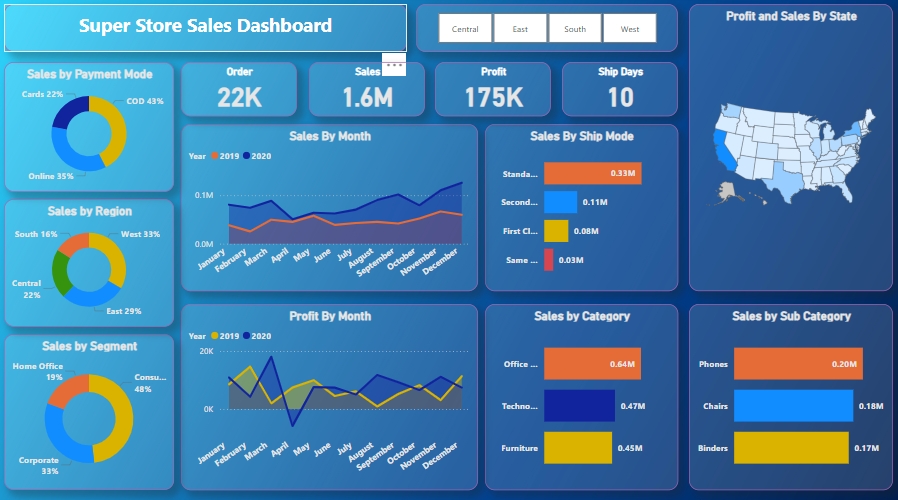

This screenshot's page, from the dashboard's own definition file:
{"tool":"powerbi","page":{"name":"Dashboard","canvas":[1280,720],"ordinal":0},"visuals":[{"type":"clusteredBarChart","title":"Sales by Category","fields":{"Category":["SuperStore_Sales_Dataset.Category"],"Y":["Sum(SuperStore_Sales_Dataset.Sales)"]},"box":[693.1,436.5,273.5,263.6],"z":0},{"type":"clusteredBarChart","title":"Sales by Sub Category","fields":{"Y":["Sum(SuperStore_Sales_Dataset.Sales)"],"Category":["SuperStore_Sales_Dataset.Sub-Category"]},"box":[982.2,436.5,289.1,263.6],"z":1000},{"type":"clusteredBarChart","title":"Sales By Ship Mode","fields":{"Y":["Sum(SuperStore_Sales_Dataset.Sales)"],"Category":["SuperStore_Sales_Dataset.Ship Mode"]},"box":[693.1,181.4,273.5,236.7],"z":2000},{"type":"areaChart","title":" Sales By Month","fields":{"Category":["SuperStore_Sales_Dataset.Order Date.Variation.Date Hierarchy.Month","SuperStore_Sales_Dataset.Order Date.Variation.Date Hierarchy.Day"],"Y":["Sum(SuperStore_Sales_Dataset.Sales)"],"Series":["SuperStore_Sales_Dataset.Order Date.Variation.Date Hierarchy.Year"]},"box":[262.2,181.4,420.9,236.7],"z":3000},{"type":"areaChart","title":"Profit By Month","fields":{"Category":["SuperStore_Sales_Dataset.Order Date.Variation.Date Hierarchy.Month","SuperStore_Sales_Dataset.Order Date.Variation.Date Hierarchy.Day"],"Series":["SuperStore_Sales_Dataset.Order Date.Variation.Date Hierarchy.Year"],"Y":["Sum(SuperStore_Sales_Dataset.Profit)"]},"box":[262.2,436.5,420.9,263.6],"z":4000},{"type":"donutChart","title":" Sales by Segment","fields":{"Category":["SuperStore_Sales_Dataset.Segment"],"Y":["Sum(SuperStore_Sales_Dataset.Sales)"]},"box":[11.3,479.1,240.9,221.1],"z":5000},{"type":"donutChart","title":" Sales by Payment Mode","fields":{"Y":["Sum(SuperStore_Sales_Dataset.Sales)"],"Category":["SuperStore_Sales_Dataset.Payment Mode"]},"box":[11.3,93.5,240.9,184.3],"z":6000},{"type":"slicer","fields":{"Values":["SuperStore_Sales_Dataset.Region"]},"box":[595.3,11.3,371.3,68],"z":7000},{"type":"textbox","box":[11.3,11.3,571.2,68],"z":8000},{"type":"card","title":"Sales","fields":{"Values":["Sum(SuperStore_Sales_Dataset.Sales)"]},"box":[443.6,93.5,164.4,76.5],"z":9000},{"type":"card","title":"Order","fields":{"Values":["Sum(SuperStore_Sales_Dataset.Quantity)"]},"box":[262.2,93.5,164.4,76.5],"z":10000},{"type":"card","title":"Profit","fields":{"Values":["Sum(SuperStore_Sales_Dataset.Profit)"]},"box":[622.2,93.5,164.4,76.5],"z":11000},{"type":"card","title":"Ship Days","fields":{"Values":["Avg(SuperStore_Sales_Dataset.Avg Delivery)"]},"box":[802.2,93.5,164.4,76.5],"z":12000},{"type":"donutChart","title":" Sales by Region","fields":{"Y":["Sum(SuperStore_Sales_Dataset.Sales)"],"Category":["SuperStore_Sales_Dataset.Region"]},"box":[11.3,287.7,240.9,181.4],"z":13000},{"type":"shapeMap","title":"Profit and Sales By State","fields":{"Value":["Sum(SuperStore_Sales_Dataset.Sales)"],"Category":["SuperStore_Sales_Dataset.State "]},"box":[982.2,11.3,289.1,406.8],"z":14000}]}

Visuals, with their boxes in screenshot pixels (x1, y1, x2, y2), scaled from the page's 1280x720 canvas onto the 898x500 screenshot:
"Sales by Category" clusteredBarChart: [486, 303, 678, 486]
"Sales by Sub Category" clusteredBarChart: [689, 303, 892, 486]
"Sales By Ship Mode" clusteredBarChart: [486, 126, 678, 290]
" Sales By Month" areaChart: [184, 126, 479, 290]
"Profit By Month" areaChart: [184, 303, 479, 486]
" Sales by Segment" donutChart: [8, 333, 177, 486]
" Sales by Payment Mode" donutChart: [8, 65, 177, 193]
slicer - SuperStore_Sales_Dataset.Region: [418, 8, 678, 55]
textbox: [8, 8, 409, 55]
"Sales" card: [311, 65, 427, 118]
"Order" card: [184, 65, 299, 118]
"Profit" card: [437, 65, 552, 118]
"Ship Days" card: [563, 65, 678, 118]
" Sales by Region" donutChart: [8, 200, 177, 326]
"Profit and Sales By State" shapeMap: [689, 8, 892, 290]
